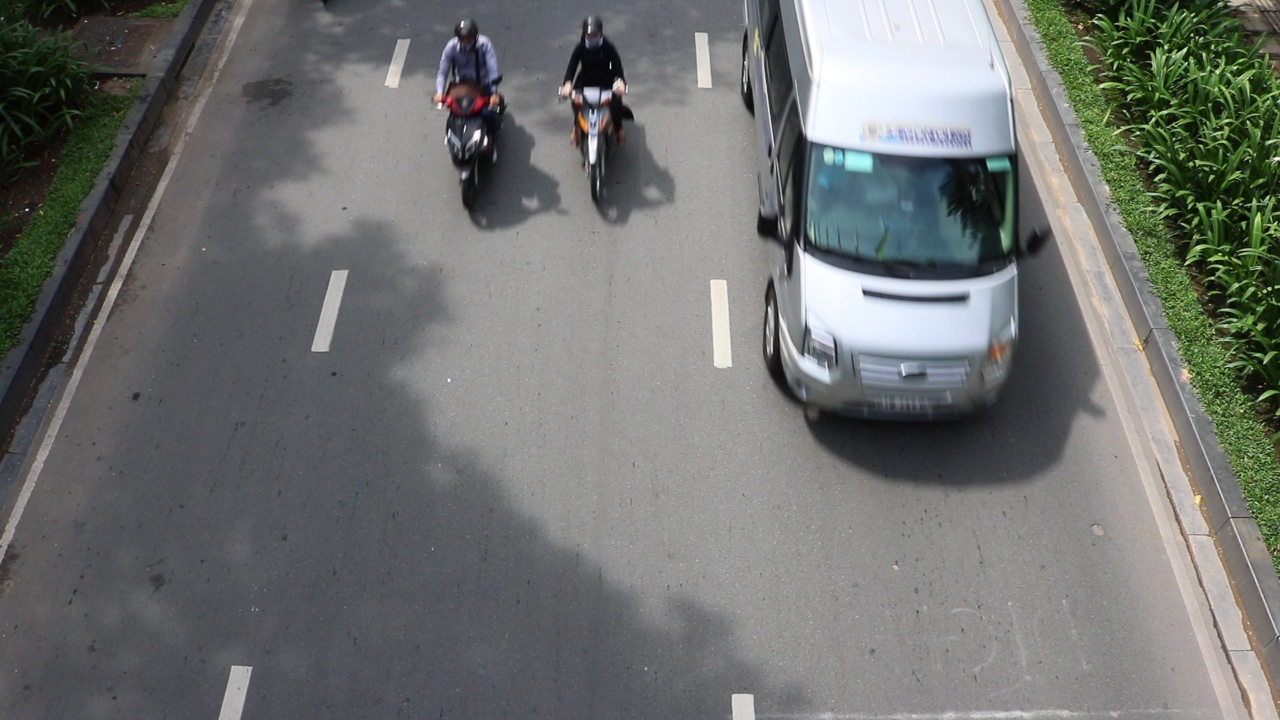car: (739, 0, 1036, 424)
motorcycle: (558, 78, 636, 210), (433, 80, 507, 213)
